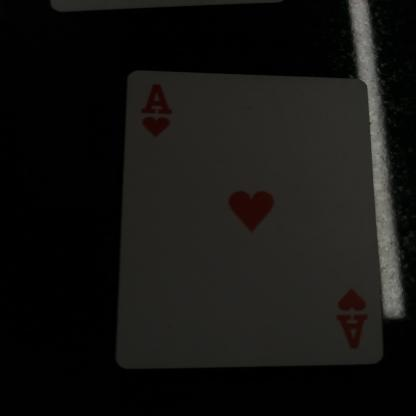AH: (324, 276, 377, 364), (129, 74, 185, 145)
